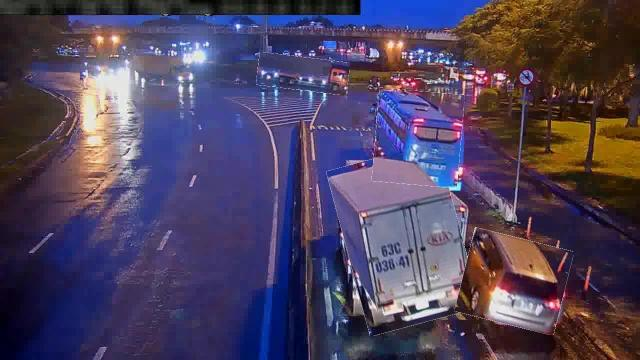Bus: (373, 90, 462, 187)
Car: (458, 232, 570, 330)
Truck: (336, 148, 470, 332), (257, 55, 349, 93)
